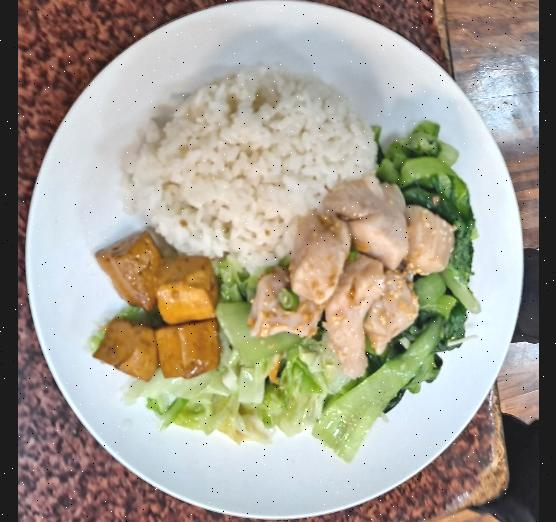big fried chicken leg: (19, 0, 530, 522)
big herbal chicken leg: (113, 59, 376, 279)
braised fish fillet: (340, 123, 485, 444), (146, 262, 330, 454), (90, 230, 228, 384)
braised pork: (252, 173, 456, 368)
